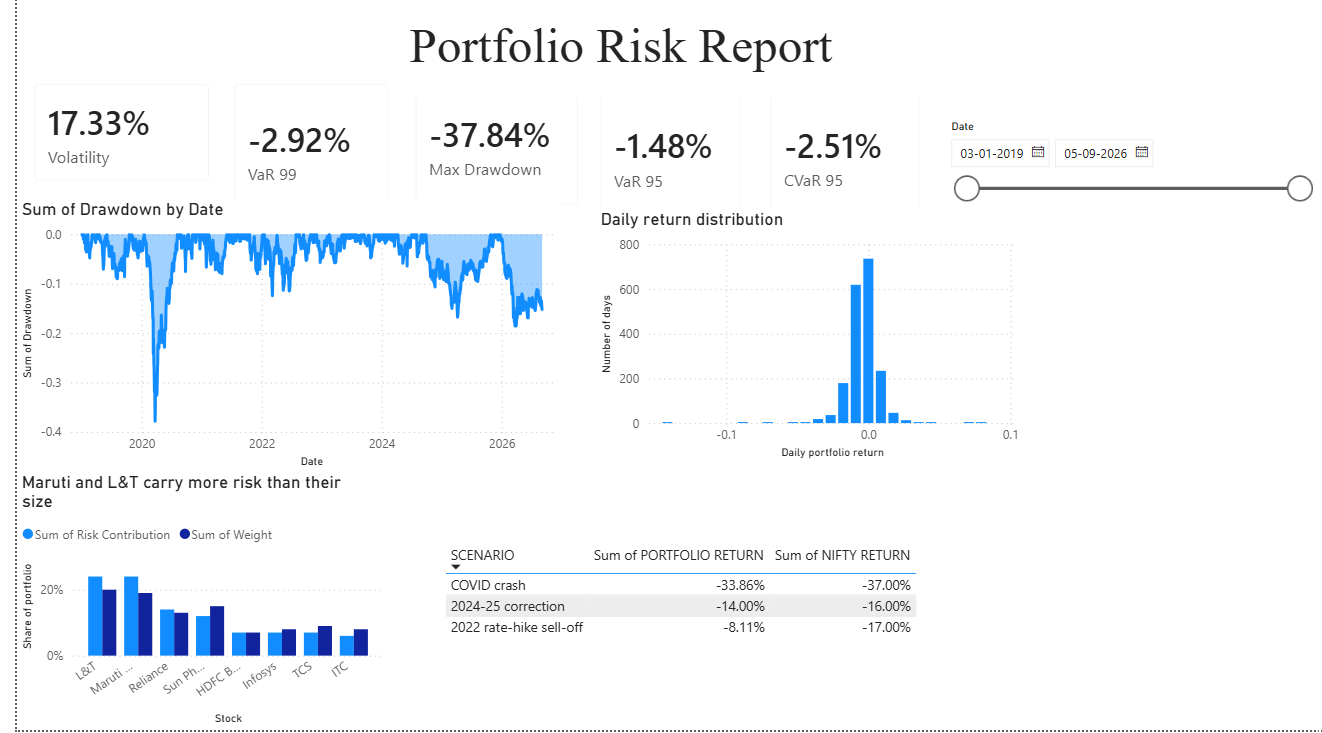

The dashboard page shown, as its layout file describes it:
{"tool":"powerbi","page":{"name":"Page 1","canvas":[1280,720],"ordinal":0},"visuals":[{"type":"cardVisual","fields":{"Data":["pbi_returns.VaR 95"]},"box":[553.9,83.2,171.2,151.6],"z":0},{"type":"cardVisual","fields":{"Data":["pbi_returns.VaR 99"]},"box":[195.7,70.9,184.6,163.9],"z":1000},{"type":"cardVisual","fields":{"Data":["pbi_returns.Volatility"]},"box":[0,70.9,205.4,129.6],"z":2000},{"type":"cardVisual","fields":{"Data":["pbi_returns.CVaR 95"]},"box":[720.2,83.2,181,150.4],"z":3000},{"type":"cardVisual","fields":{"Data":["pbi_returns.Max Drawdown"]},"box":[373,70.9,193.2,152.9],"z":4000},{"type":"slicer","fields":{"Values":["Dim_Date.Date"]},"box":[901.2,117.4,379.1,106.4],"z":5000},{"type":"areaChart","fields":{"Category":["Dim_Date.Date"],"Y":["Sum(pbi_returns.Drawdown)"]},"box":[0,200.5,531.9,267.8],"z":6000},{"type":"clusteredColumnChart","title":"Daily return distribution","fields":{"Category":["pbi_returns.Portfolio Return  (bins)"],"Y":["CountNonNull(pbi_returns.Portfolio Return )"]},"box":[566.2,210.3,419.4,249.5],"z":7000},{"type":"clusteredColumnChart","title":"Maruti and L&T carry more risk than their size","fields":{"Category":["pbi_stocks (2).Stock"],"Y":["Sum(pbi_stocks (2).Risk Contribution )","Sum(pbi_stocks (2).Weight)"]},"box":[0,467.1,363.2,253.1],"z":8000},{"type":"textbox","box":[379.1,18.3,522.1,83.2],"z":8001},{"type":"tableEx","fields":{"Values":["Stress Table.SCENARIO","select","Sum(Stress Table.PORTFOLIO RETURN)","select1","Sum(Stress Table.NIFTY RETURN )"]},"box":[413.3,533.2,487.9,105.2],"z":8002}]}

Visuals, with their boxes in screenshot pixels (x1, y1, x2, y2), scaled from the page's 1280x720 canvas onto the 1322x733 screenshot:
cardVisual - pbi_returns.VaR 95: 572,85,749,239
cardVisual - pbi_returns.VaR 99: 202,72,393,239
cardVisual - pbi_returns.Volatility: 0,72,212,204
cardVisual - pbi_returns.CVaR 95: 744,85,931,238
cardVisual - pbi_returns.Max Drawdown: 385,72,585,228
slicer - Dim_Date.Date: 931,120,1321,228
areaChart - Dim_Date.Date x Sum(pbi_returns.Drawdown): 0,204,549,477
"Daily return distribution" clusteredColumnChart: 585,214,1018,468
"Maruti and L&T carry more risk than their size" clusteredColumnChart: 0,476,375,732
textbox: 392,19,931,103
tableEx - Stress Table.SCENARIO x select: 427,543,931,650
